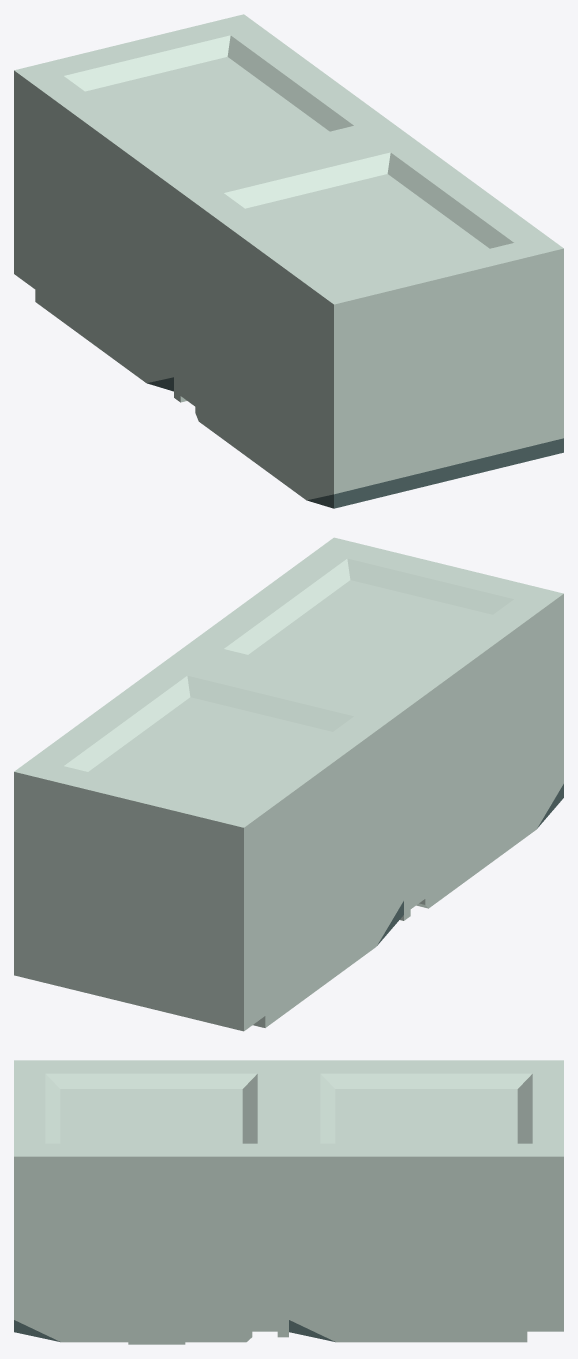
The model's file is washer-dryer-stacked.obj.
3 views of the same model, one above another, from view 1: azimuth 30°, elevation 25°; view 2: azimuth 150°, elevation 25°; view 3: azimuth 270°, elevation 25° (orthographic). The views are drawn at different scales.
Visible parts, largest first — view 1: washer-dryer-stacked; view 2: washer-dryer-stacked; view 3: washer-dryer-stacked.
Boxes of the visible parts, x1=… form: washer-dryer-stacked: x1=14, y1=14, x2=563, y2=508; washer-dryer-stacked: x1=14, y1=537, x2=563, y2=1031; washer-dryer-stacked: x1=14, y1=1060, x2=563, y2=1344.
Size of the model in its own units: 29.87 by 29.87 by 72.
